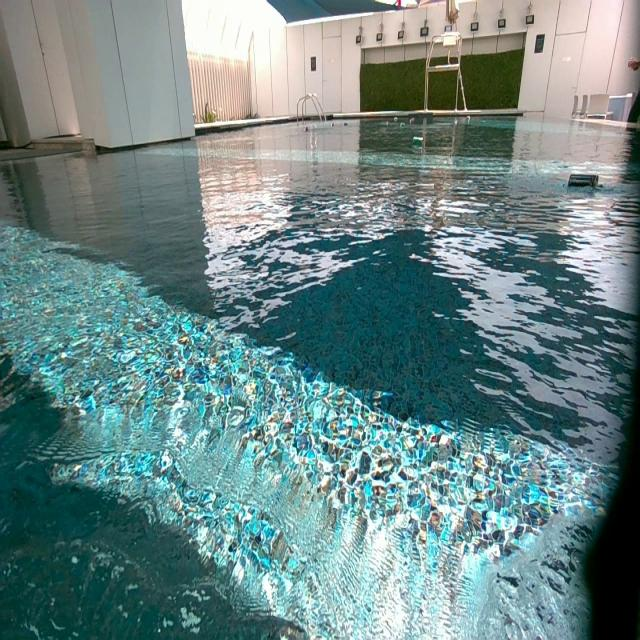Cans: (568, 173, 598, 190), (412, 137, 423, 147), (304, 126, 312, 133), (409, 116, 415, 124), (343, 121, 349, 127), (400, 122, 406, 128), (329, 122, 334, 128), (466, 115, 471, 121), (385, 120, 390, 125), (453, 120, 457, 126), (393, 118, 399, 121)
